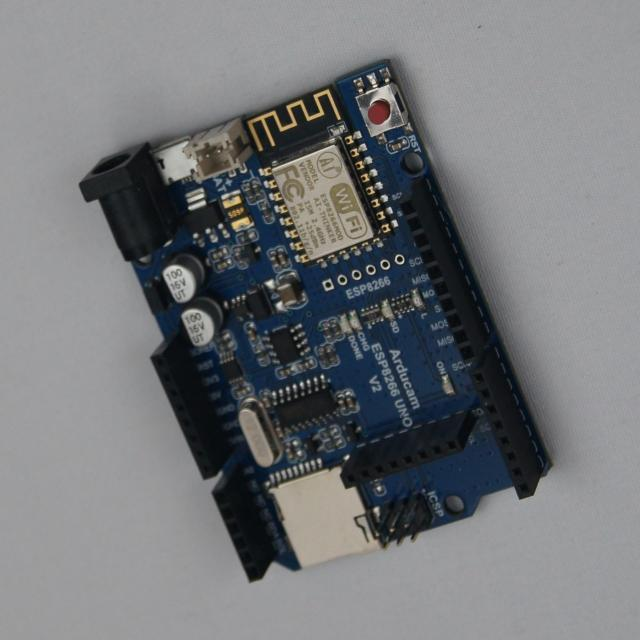Arduino Uno Camera Shield: (80, 61, 549, 581)
